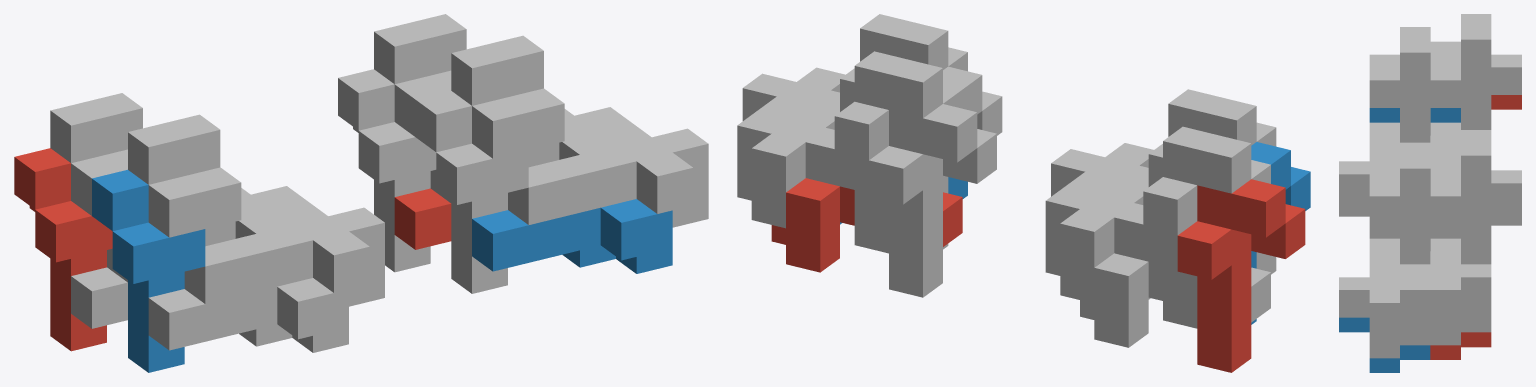
The model's file is tiling.obj.
The picture shows the model from 3 angles, left to right: view 1: azimuth 30°, elevation 25°; view 2: azimuth 150°, elevation 25°; view 3: azimuth 270°, elevation 25°; orthographic projection. The views are drawn at different scales.
Parts seen in each view (by area): view 1: copy_2_domain_8, copy_2_domain_4, copy_2_domain_6, copy_2_domain_2, copy_1_domain_2, copy_1_domain_6, copy_1_domain_4, copy_1_domain_8, copy_1_domain_1, copy_1_domain_5, copy_1_domain_7, copy_1_domain_3 (+4 smaller); view 2: copy_1_domain_1, copy_1_domain_5, copy_1_domain_7, copy_1_domain_3, copy_2_domain_3, copy_2_domain_7, copy_2_domain_1, copy_2_domain_5, copy_1_domain_4, copy_1_domain_8, copy_2_domain_8, copy_2_domain_4 (+2 smaller); view 3: copy_2_domain_8, copy_1_domain_8, copy_1_domain_4, copy_1_domain_7, copy_2_domain_7, copy_1_domain_3, copy_2_domain_4, copy_2_domain_6, copy_2_domain_3, copy_2_domain_5, copy_1_domain_2, copy_1_domain_6 (+3 smaller).
Part boxes in pixels (x1,y1,x2,y2): copy_2_domain_8: (508, 122, 708, 227); copy_2_domain_4: (184, 201, 384, 306); copy_2_domain_6: (472, 199, 672, 273); copy_2_domain_2: (148, 278, 348, 352); copy_1_domain_2: (92, 169, 205, 372); copy_1_domain_6: (415, 91, 528, 293); copy_1_domain_4: (128, 114, 241, 246); copy_1_domain_8: (451, 35, 564, 167); copy_1_domain_1: (14, 148, 112, 351); copy_1_domain_5: (338, 69, 436, 272); copy_1_domain_7: (374, 14, 466, 136); copy_1_domain_3: (50, 93, 142, 215); copy_1_domain_1: (1177, 179, 1305, 372); copy_1_domain_5: (869, 104, 996, 297); copy_1_domain_7: (834, 51, 962, 253); copy_1_domain_3: (1143, 126, 1270, 328); copy_2_domain_3: (1045, 180, 1162, 303); copy_2_domain_7: (737, 105, 854, 228); copy_2_domain_1: (1080, 253, 1270, 347); copy_2_domain_5: (771, 178, 962, 272); copy_1_domain_4: (1148, 89, 1276, 186); copy_1_domain_8: (840, 14, 967, 111); copy_2_domain_8: (742, 67, 845, 120); copy_2_domain_4: (1051, 143, 1153, 196); copy_2_domain_8: (1339, 238, 1430, 358); copy_1_domain_8: (1369, 142, 1460, 264); copy_1_domain_4: (1369, 27, 1460, 142); copy_1_domain_7: (1430, 130, 1521, 264); copy_2_domain_7: (1400, 238, 1491, 345); copy_1_domain_3: (1430, 14, 1521, 129); copy_2_domain_4: (1339, 122, 1399, 201); copy_2_domain_6: (1339, 317, 1430, 372); copy_2_domain_3: (1430, 122, 1460, 157); copy_2_domain_5: (1430, 332, 1491, 359); copy_1_domain_2: (1369, 108, 1460, 122); copy_1_domain_6: (1369, 224, 1460, 238).
Size of the model in its own units: 17 by 6 by 6.
